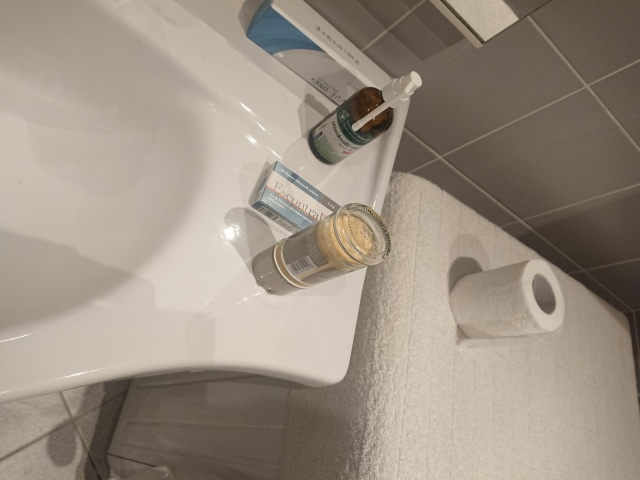Kotanyi Garlic Granules 70g: (250, 201, 393, 297)
